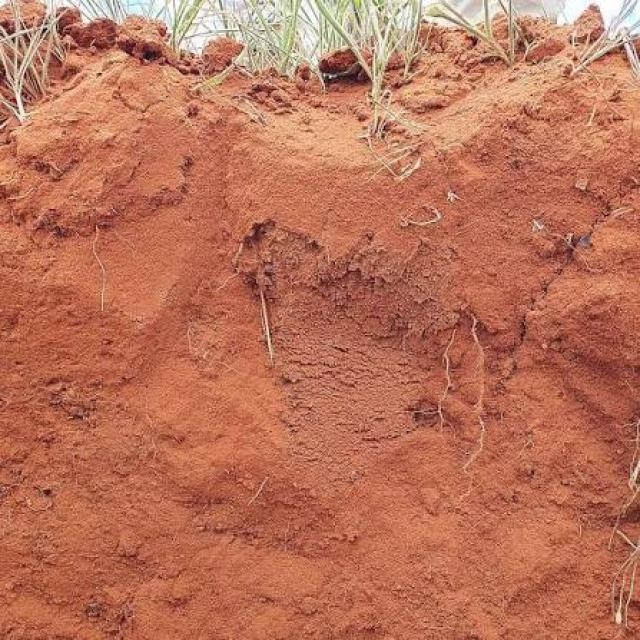suelo_seco: (178, 157, 542, 585)
